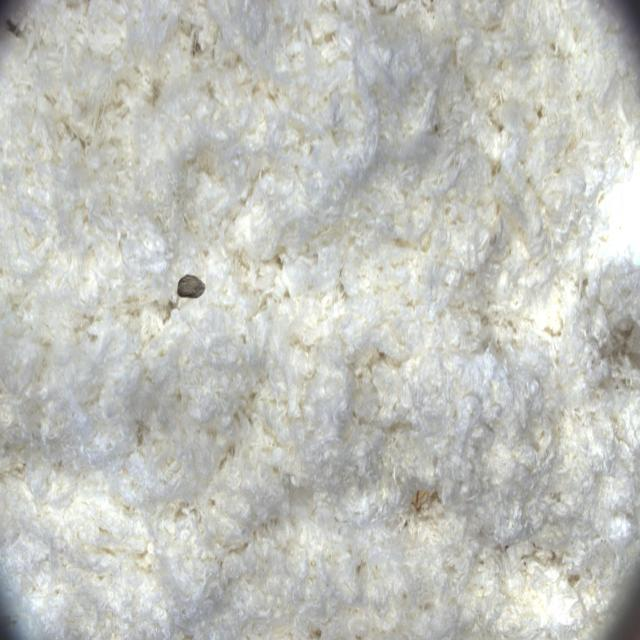dust: (163, 235, 228, 325)
